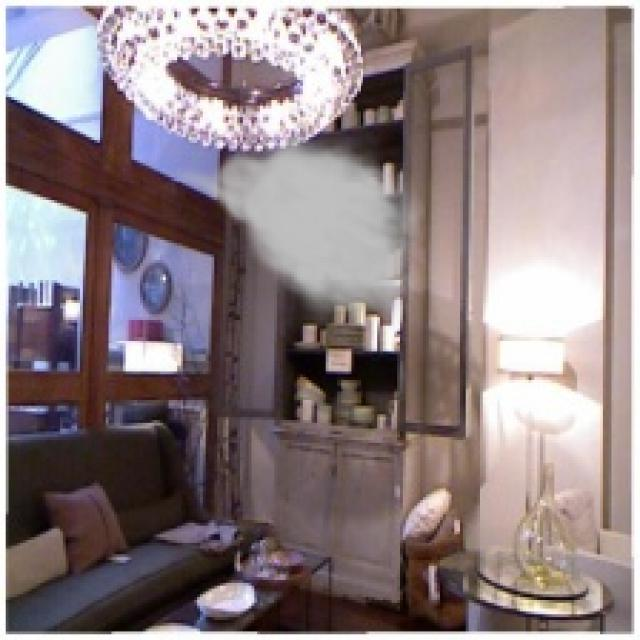smoke: (166, 128, 426, 328)
